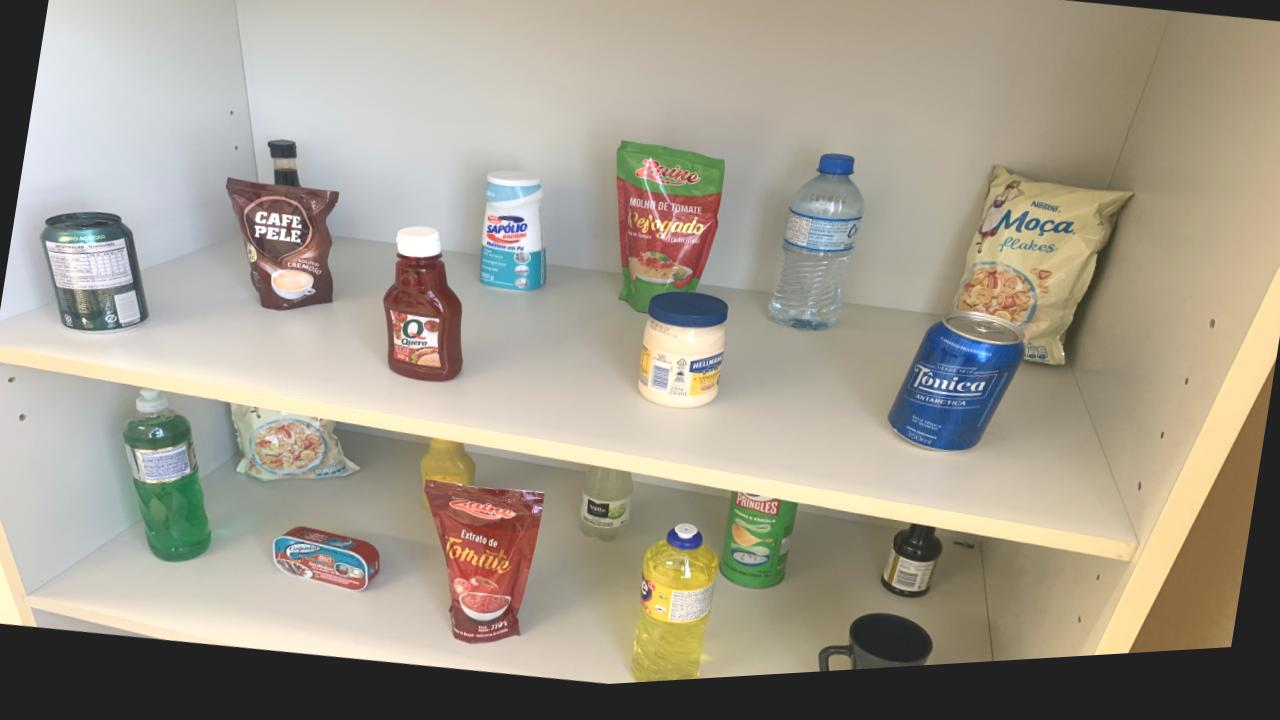Cleaner-Cleanup_Items: (479, 176, 547, 297)
Coffee-Pantry_Items: (225, 180, 339, 314)
Detergent-Cleanup_Items: (123, 391, 211, 564), (631, 532, 718, 690)
English_Sauce-Pantry_Items: (881, 535, 943, 610), (267, 142, 301, 191)
Flakes-Snacks: (953, 178, 1132, 378), (230, 406, 359, 484)
Guarana_Can-Drinks: (41, 212, 148, 334)
Ketchup-Pantry_Items: (383, 231, 463, 386)
Mayonnaise-Pantry_Items: (638, 300, 728, 417)
Mustard-Pantry_Items: (419, 444, 477, 492)
Pringles-Snacks: (719, 500, 797, 598)
Soda-Drinks: (579, 473, 634, 548)
Tomato_Sauce-Pantry_Items: (423, 485, 545, 649), (616, 148, 725, 319)
Tonic-Drinks: (888, 322, 1025, 463)
Tuna_Can-Pantry_Items: (272, 529, 380, 595)
Water_Bottle-Drinks: (767, 164, 865, 341)
